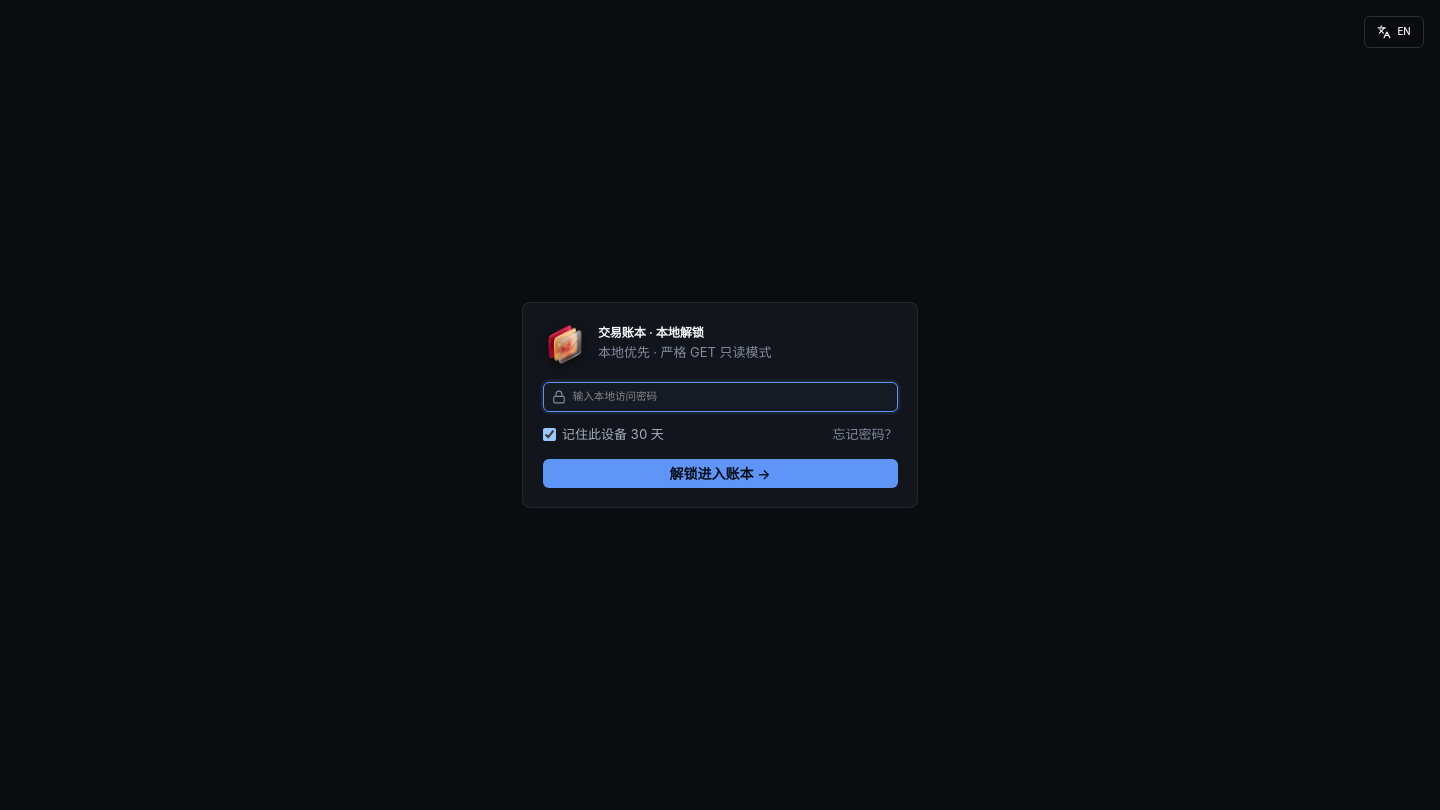
Test: Cross-Module CSS, i18n & Component Isolation Contracts › uses AnimatedCollapse in AuthGate forgot-password disclosure without orphaned classes
Step 1. Click the button "忘记密码？" → (865, 434), box [832,425,898,444]
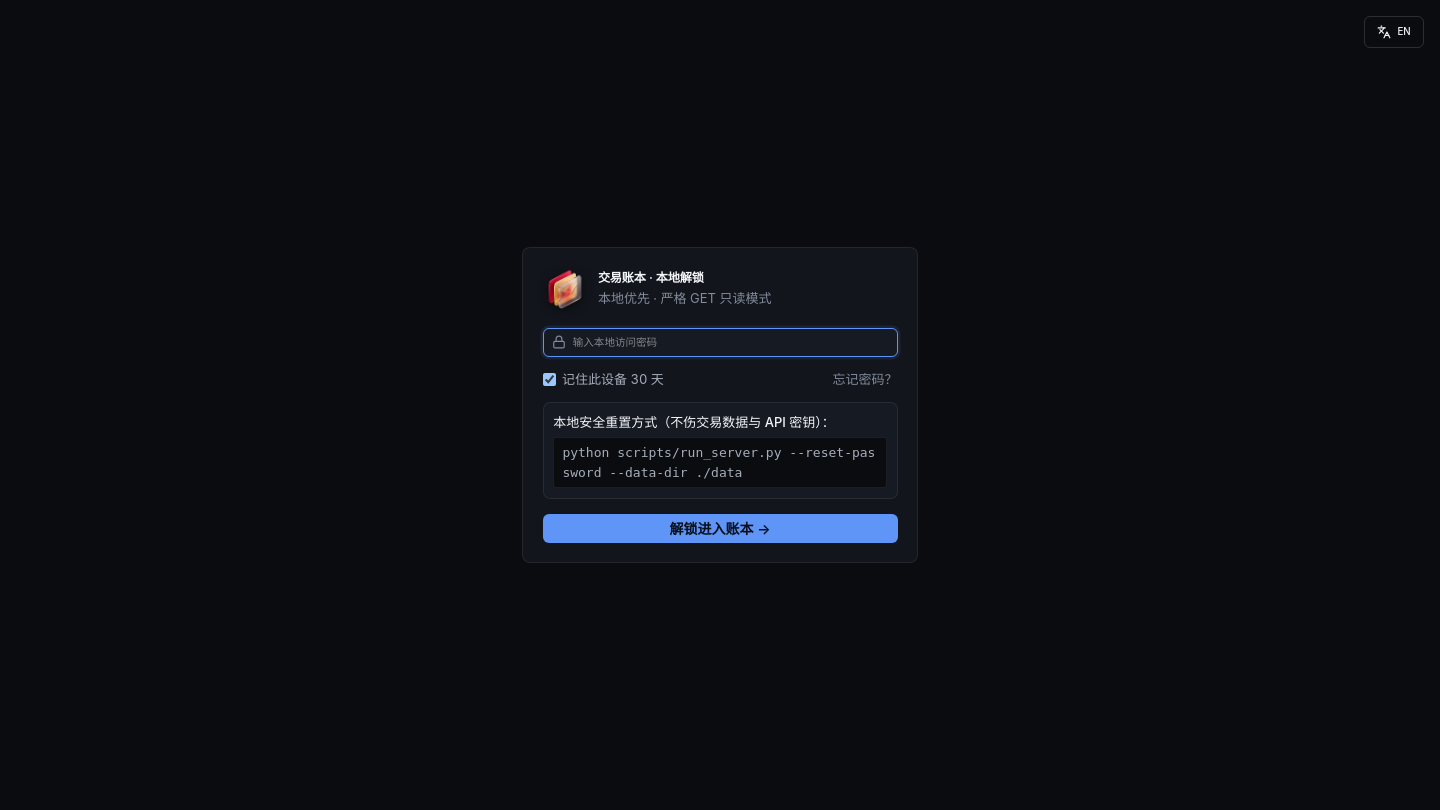
Now the text "--reset-password" is shown, box [562,445,876,480]
Now the element with class "otl-collapse-grid" is shown, box [542,402,898,499]
